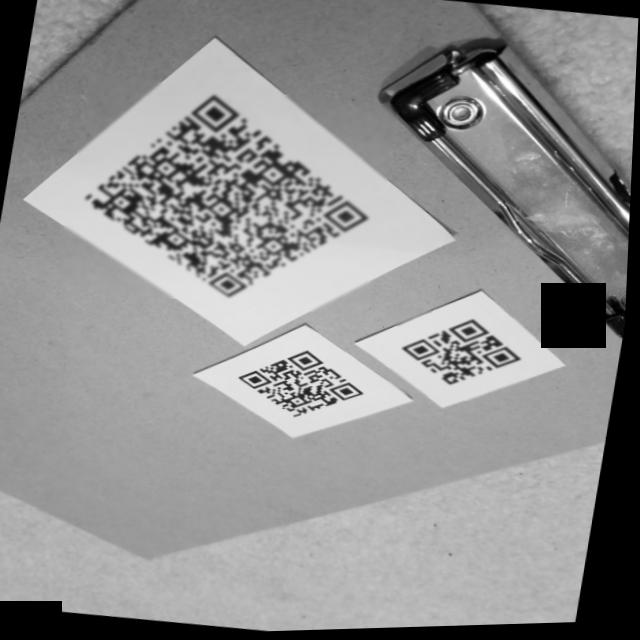QR_CODE: (55, 69, 402, 326), (223, 336, 383, 442), (388, 306, 541, 413)
